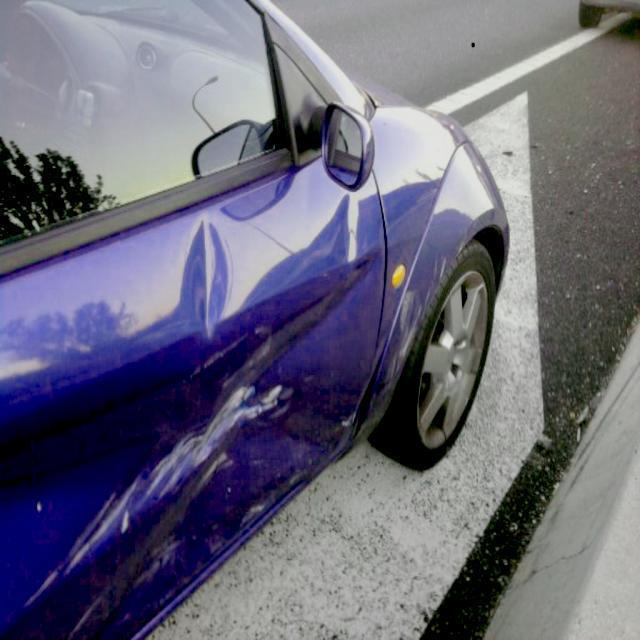minor: (179, 219, 231, 339)
moderate: (29, 306, 322, 597)
